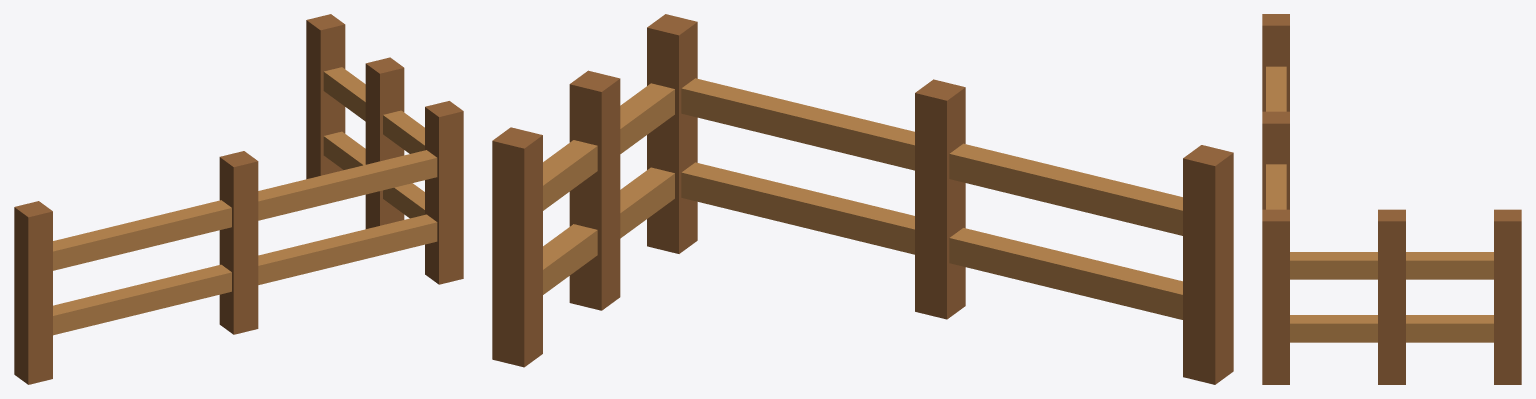
Rendered from fence_corner.glb.
The picture shows the model from 3 angles, left to right: view 1: azimuth 30°, elevation 25°; view 2: azimuth 150°, elevation 25°; view 3: azimuth 270°, elevation 25°; orthographic projection. The views are drawn at different scales.
Visible parts, largest first — view 1: Rail_Low.001, Rail_High.001, Post_-2.001, Post_0.002, Post_2.001, Corner_Post_2, Corner_Post_1, Corner_Rail_1.08, Corner_Rail_0.48; view 2: Rail_High.001, Rail_Low.001, Corner_Post_2, Post_-2.001, Post_0.002, Corner_Post_1, Post_2.001, Corner_Rail_1.08, Corner_Rail_0.48; view 3: Corner_Post_1, Corner_Post_2, Corner_Rail_0.48, Corner_Rail_1.08, Post_2.001, Rail_High.001, Post_0.002, Post_-2.001.
Part boxes in pixels (x1=…): Rail_Low.001: x1=53, y1=214, x2=437, y2=335; Rail_High.001: x1=53, y1=150, x2=437, y2=270; Post_-2.001: x1=14, y1=201, x2=52, y2=384; Post_0.002: x1=219, y1=151, x2=258, y2=334; Post_2.001: x1=425, y1=101, x2=463, y2=284; Corner_Post_2: x1=306, y1=14, x2=345, y2=179; Corner_Post_1: x1=365, y1=57, x2=404, y2=228; Corner_Rail_1.08: x1=323, y1=67, x2=424, y2=153; Corner_Rail_0.48: x1=323, y1=131, x2=424, y2=218; Rail_High.001: x1=681, y1=78, x2=1182, y2=235; Rail_Low.001: x1=681, y1=162, x2=1182, y2=319; Corner_Post_2: x1=492, y1=127, x2=542, y2=367; Post_-2.001: x1=1183, y1=145, x2=1233, y2=384; Post_0.002: x1=915, y1=79, x2=965, y2=319; Corner_Post_1: x1=569, y1=70, x2=620, y2=310; Post_2.001: x1=647, y1=14, x2=697, y2=253; Corner_Rail_1.08: x1=543, y1=83, x2=674, y2=210; Corner_Rail_0.48: x1=543, y1=167, x2=674, y2=294; Corner_Post_1: x1=1378, y1=209, x2=1405, y2=384; Corner_Post_2: x1=1494, y1=209, x2=1521, y2=384; Corner_Rail_0.48: x1=1290, y1=315, x2=1493, y2=342; Corner_Rail_1.08: x1=1290, y1=252, x2=1493, y2=279; Post_2.001: x1=1262, y1=209, x2=1289, y2=384; Rail_High.001: x1=1266, y1=66, x2=1286, y2=209; Post_0.002: x1=1262, y1=111, x2=1289, y2=209; Post_-2.001: x1=1262, y1=14, x2=1289, y2=111.
Bounding box in the file's own units: 4.24 × 1.56 × 2.24.
